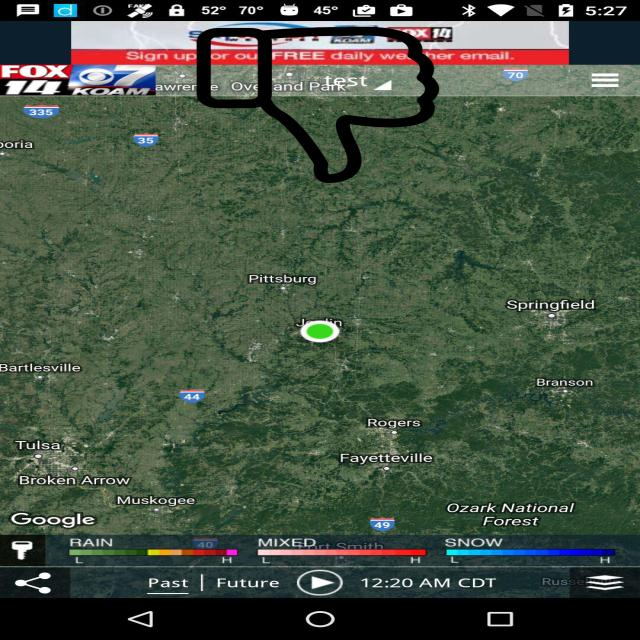obstruction: (193, 27, 443, 183)
